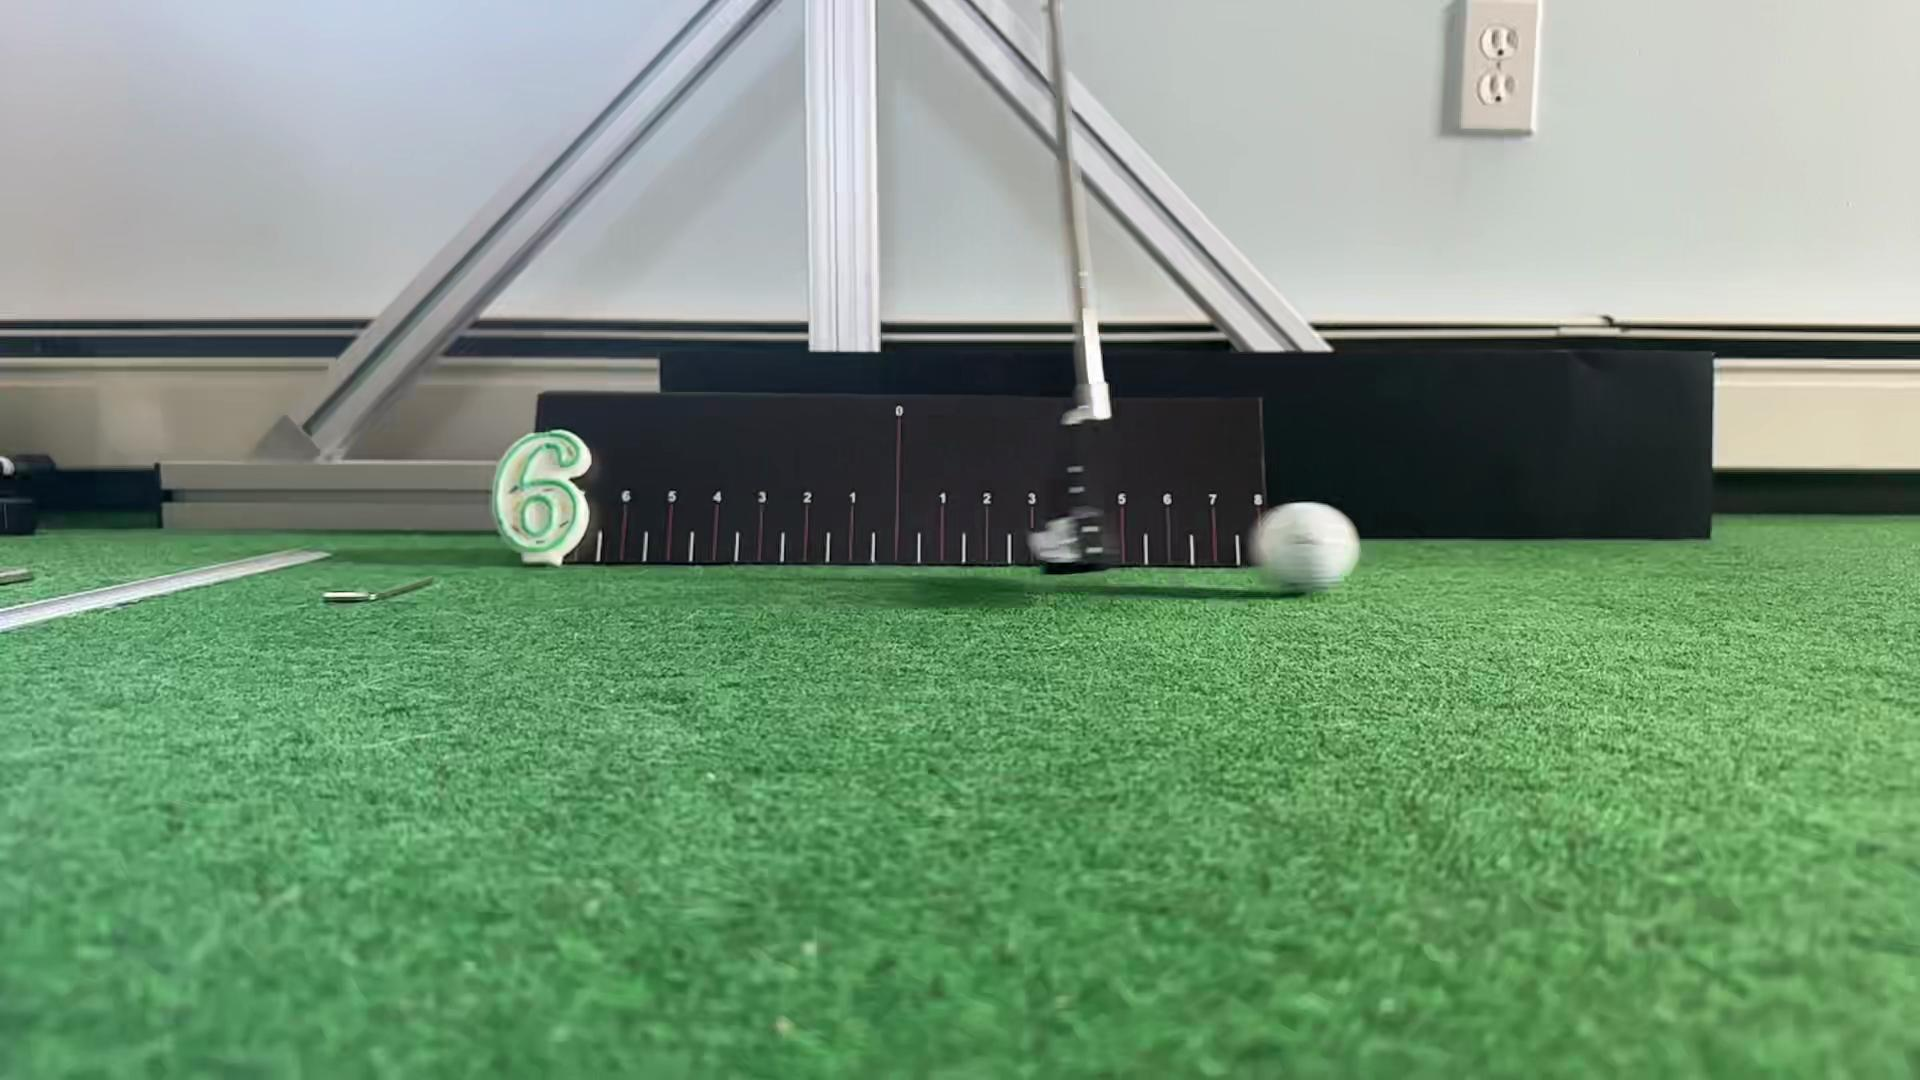golfball: (1255, 502, 1359, 592)
